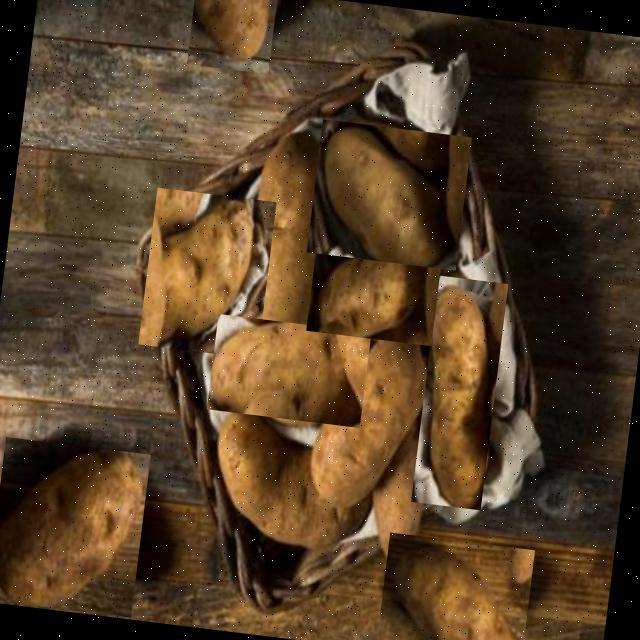Damaged potato: (0, 436, 150, 617), (229, 118, 340, 358), (307, 324, 438, 516), (306, 119, 472, 270), (138, 188, 276, 358), (410, 275, 508, 510), (210, 406, 358, 556), (206, 314, 371, 428), (375, 532, 534, 640), (306, 225, 444, 346), (363, 439, 445, 588), (186, 0, 277, 73)
